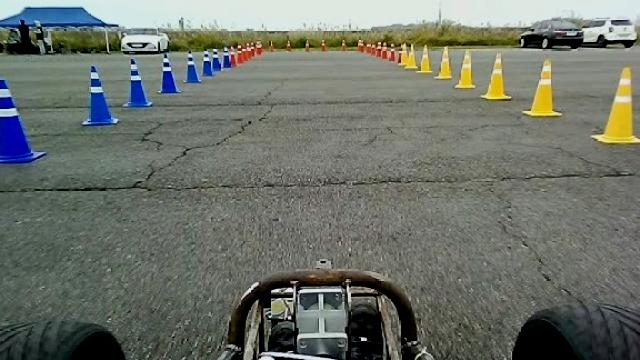blue cone: (0, 78, 46, 164), (81, 64, 118, 126), (121, 57, 152, 106), (157, 52, 181, 93), (182, 50, 201, 83)
yellow cone: (590, 66, 640, 144), (522, 57, 563, 116), (478, 52, 512, 100), (454, 49, 476, 88), (432, 45, 452, 79), (416, 44, 434, 74)
